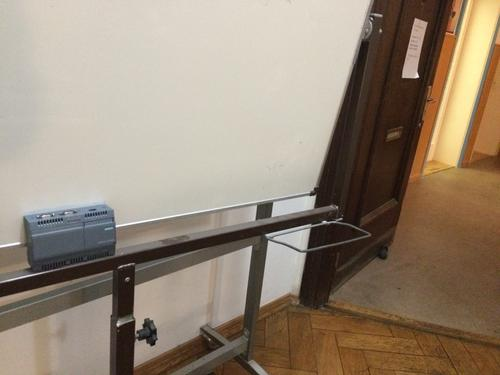iot2000: (22, 202, 117, 272)
